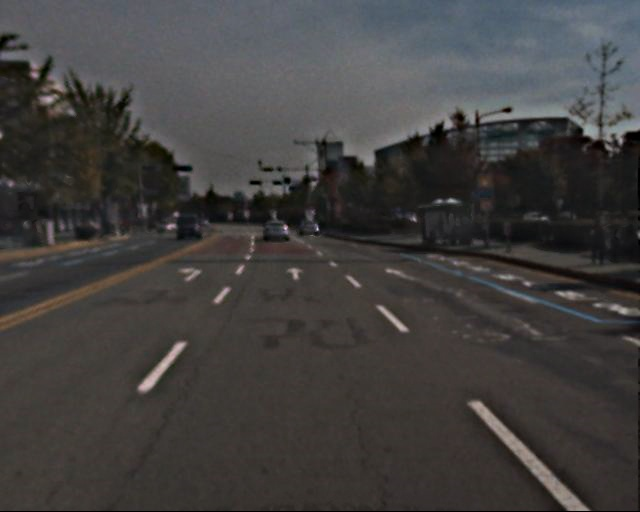person: (581, 217, 638, 269)
